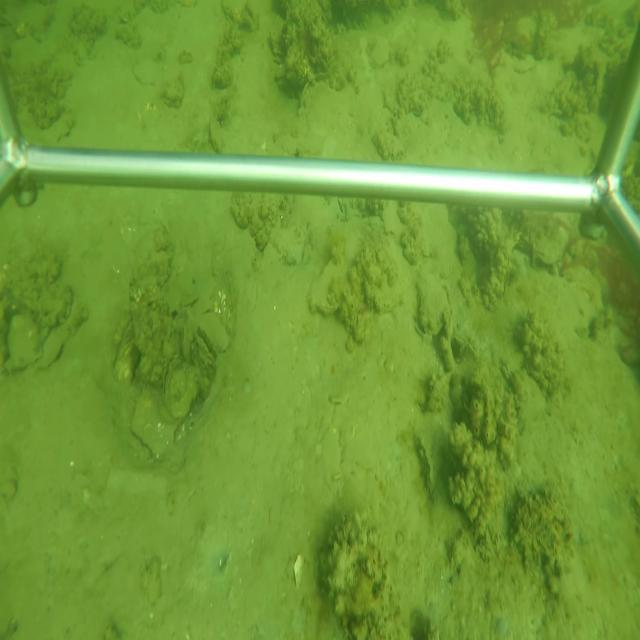Oyster-Closed: (132, 388, 179, 464), (161, 355, 203, 426), (416, 429, 435, 509), (420, 368, 452, 409)
Oyster-Open: (412, 264, 453, 341), (190, 324, 221, 379)
